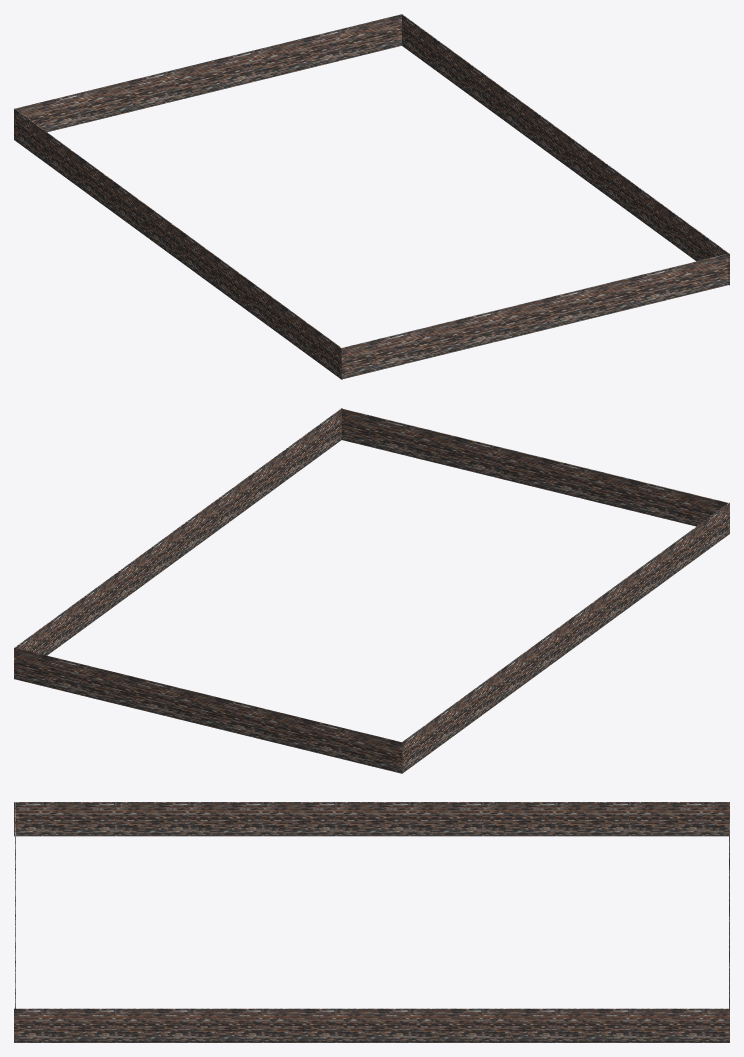
Rendered from wall_1.obj.
3 views of the same model, one above another, from view 1: azimuth 30°, elevation 25°; view 2: azimuth 150°, elevation 25°; view 3: azimuth 270°, elevation 25° (orthographic). The views are drawn at different scales.
Visible parts, largest first — view 1: Box002; view 2: Box002; view 3: Box002.
Part boxes in pixels (left/top/right/bottom): Box002: left=14, top=14, right=729, bottom=379; Box002: left=14, top=408, right=729, bottom=773; Box002: left=14, top=802, right=729, bottom=1042.
Size of the model in its own units: 3259 by 249 by 4766.
Materials: 1 (1 with a texture image).
